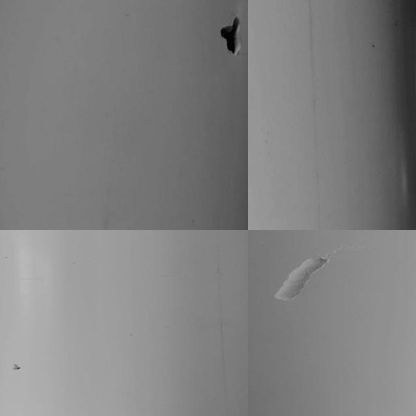kongdong: (215, 16, 244, 60)
sunshang: (273, 252, 329, 305)
